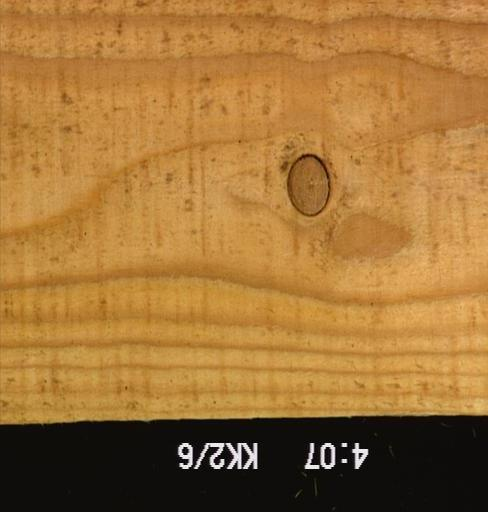dry_knot: (286, 152, 333, 217)
